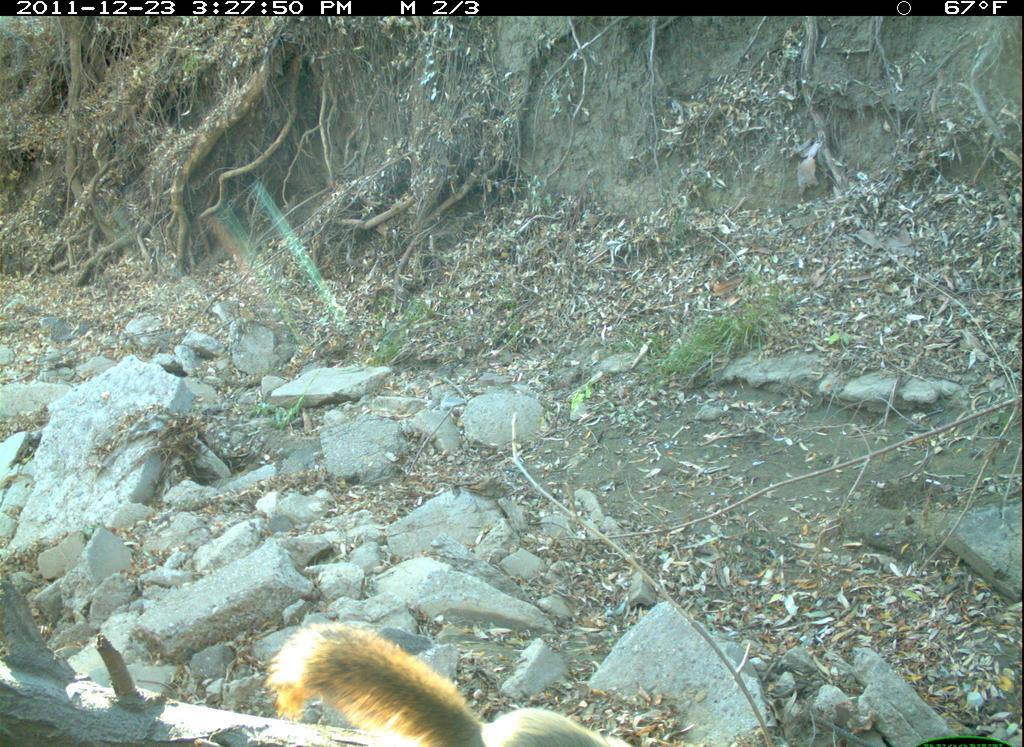squirrel: (257, 610, 662, 747)
